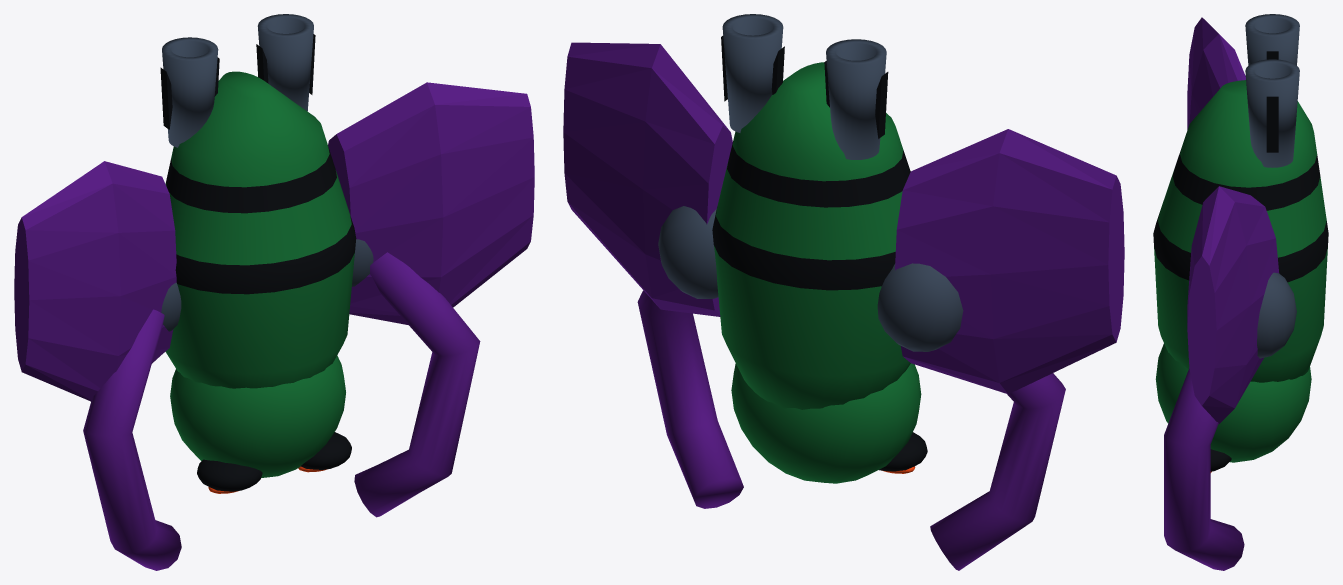
Rendered from enemigo_escarabajo.obj.
3 renders of one model, left to right at view 1: azimuth 30°, elevation 25°; view 2: azimuth 150°, elevation 25°; view 3: azimuth 270°, elevation 25°, orthographic. The views are drawn at different scales.
Visible parts, largest first — view 1: enemigo_escarabajo_Abdomen, enemigo_escarabajo_Ala_-1, enemigo_escarabajo_Ala_1, enemigo_escarabajo_Cuerno_-1, enemigo_escarabajo_Cabeza, enemigo_escarabajo_Cuerno_1, enemigo_escarabajo_Propulsor_1_tobera, enemigo_escarabajo_Propulsor_-1_tobera, enemigo_escarabajo_Ojo_1, enemigo_escarabajo_Ojo_-1, enemigo_escarabajo_Articulacion_1, enemigo_escarabajo_Articulacion_-1; view 2: enemigo_escarabajo_Abdomen, enemigo_escarabajo_Ala_1, enemigo_escarabajo_Ala_-1, enemigo_escarabajo_Cabeza, enemigo_escarabajo_Cuerno_-1, enemigo_escarabajo_Cuerno_1, enemigo_escarabajo_Articulacion_1, enemigo_escarabajo_Propulsor_1_tobera, enemigo_escarabajo_Propulsor_-1_tobera, enemigo_escarabajo_Articulacion_-1, enemigo_escarabajo_Ojo_1; view 3: enemigo_escarabajo_Abdomen, enemigo_escarabajo_Ala_-1, enemigo_escarabajo_Cuerno_-1, enemigo_escarabajo_Cabeza, enemigo_escarabajo_Propulsor_-1_tobera, enemigo_escarabajo_Ala_1, enemigo_escarabajo_Articulacion_-1, enemigo_escarabajo_Propulsor_1_tobera, enemigo_escarabajo_Propulsor_-1_aleta_-1, enemigo_escarabajo_Ojo_-1.
Boxes of the visible parts, x1,y1,x2,y2 form: enemigo_escarabajo_Abdomen: [165, 71, 356, 388]; enemigo_escarabajo_Ala_-1: [328, 82, 534, 324]; enemigo_escarabajo_Ala_1: [14, 161, 176, 401]; enemigo_escarabajo_Cuerno_-1: [354, 252, 480, 517]; enemigo_escarabajo_Cabeza: [170, 355, 345, 477]; enemigo_escarabajo_Cuerno_1: [83, 309, 181, 570]; enemigo_escarabajo_Propulsor_1_tobera: [162, 37, 218, 147]; enemigo_escarabajo_Propulsor_-1_tobera: [257, 14, 313, 111]; enemigo_escarabajo_Ojo_1: [197, 459, 262, 491]; enemigo_escarabajo_Ojo_-1: [300, 432, 351, 469]; enemigo_escarabajo_Articulacion_1: [161, 282, 181, 331]; enemigo_escarabajo_Articulacion_-1: [352, 239, 373, 286]; enemigo_escarabajo_Abdomen: [712, 62, 910, 409]; enemigo_escarabajo_Ala_1: [895, 129, 1124, 394]; enemigo_escarabajo_Ala_-1: [563, 42, 732, 316]; enemigo_escarabajo_Cabeza: [731, 363, 921, 483]; enemigo_escarabajo_Cuerno_-1: [637, 290, 743, 508]; enemigo_escarabajo_Cuerno_1: [930, 373, 1065, 570]; enemigo_escarabajo_Articulacion_1: [877, 263, 963, 351]; enemigo_escarabajo_Propulsor_1_tobera: [826, 39, 886, 159]; enemigo_escarabajo_Propulsor_-1_tobera: [722, 14, 783, 132]; enemigo_escarabajo_Articulacion_-1: [658, 206, 718, 298]; enemigo_escarabajo_Ojo_1: [879, 432, 927, 471]; enemigo_escarabajo_Abdomen: [1153, 80, 1328, 382]; enemigo_escarabajo_Ala_-1: [1187, 186, 1279, 423]; enemigo_escarabajo_Cuerno_-1: [1164, 368, 1244, 570]; enemigo_escarabajo_Cabeza: [1155, 343, 1311, 462]; enemigo_escarabajo_Propulsor_-1_tobera: [1245, 59, 1299, 167]; enemigo_escarabajo_Ala_1: [1187, 17, 1245, 129]; enemigo_escarabajo_Articulacion_-1: [1257, 272, 1296, 358]; enemigo_escarabajo_Propulsor_1_tobera: [1245, 14, 1299, 65]; enemigo_escarabajo_Propulsor_-1_aleta_-1: [1266, 96, 1278, 152]; enemigo_escarabajo_Ojo_-1: [1210, 449, 1231, 471].
Bounding box in the file's own units: 1.16 × 1.06 × 0.36.
